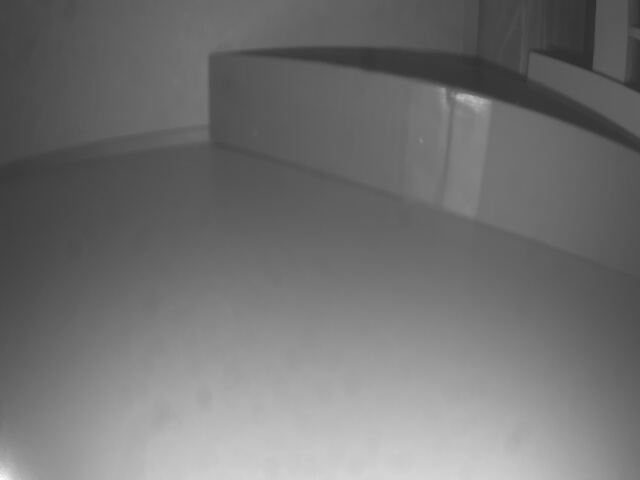Green: (206, 55, 640, 273)
